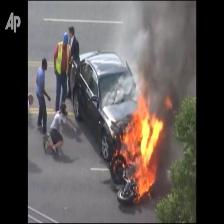fire: (119, 93, 173, 202)
